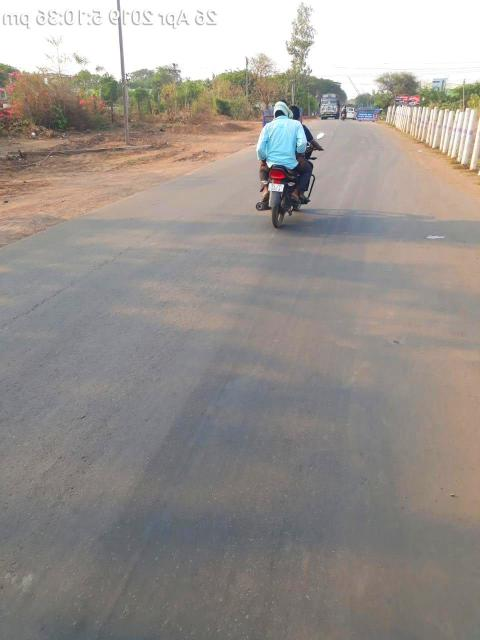motor: (257, 167, 303, 229)
non-helm: (275, 102, 289, 119), (290, 108, 301, 121)
